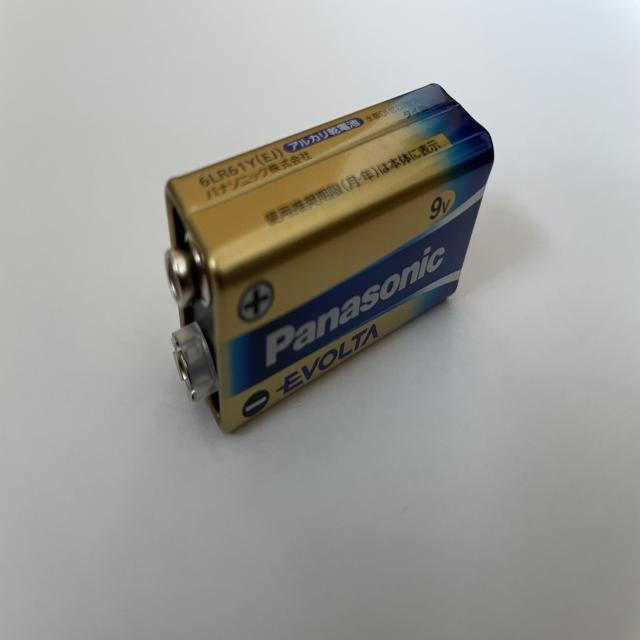9V: (157, 82, 493, 440)
